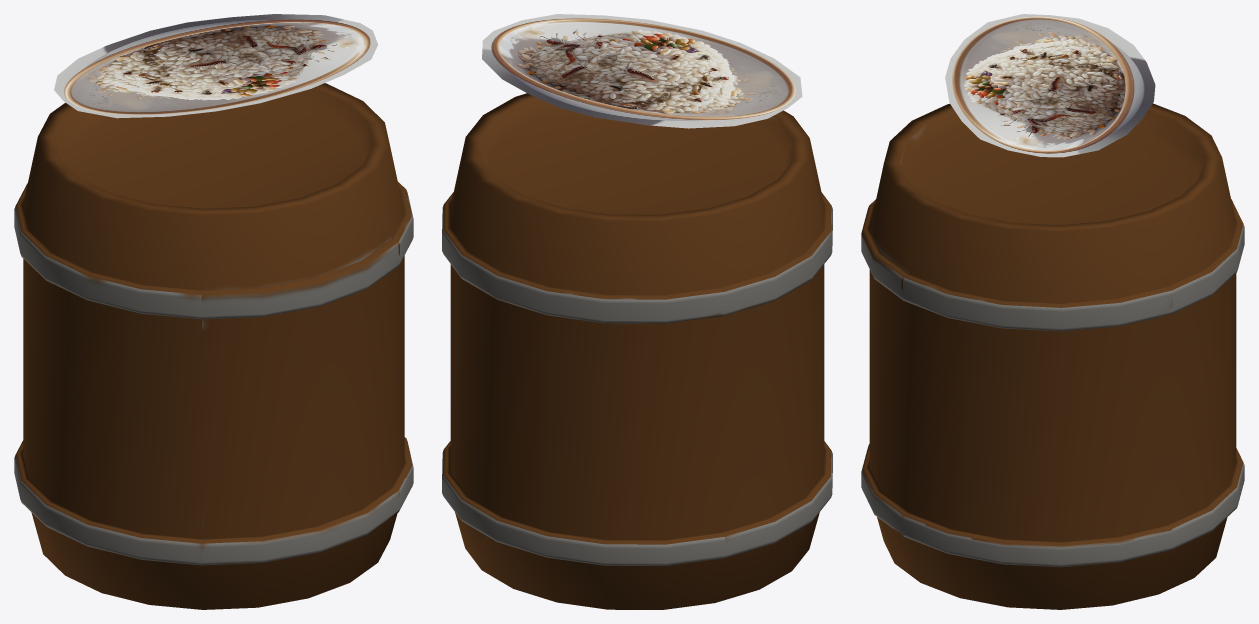
Rendered from Ingredientes_2_GranitosdeTumba.fbx.
3 views of the same model, side by side, from view 1: azimuth 30°, elevation 25°; view 2: azimuth 150°, elevation 25°; view 3: azimuth 270°, elevation 25° (orthographic). The views are drawn at different scales.
Visible parts, largest first — view 1: Barril_mesh, MK_Ingredientes_2_GranitosdeTumba; view 2: Barril_mesh, MK_Ingredientes_2_GranitosdeTumba; view 3: Barril_mesh, MK_Ingredientes_2_GranitosdeTumba.
Boxes of the visible parts, box(x1,y1,x2,y2) form: Barril_mesh: box(14, 83, 413, 609); MK_Ingredientes_2_GranitosdeTumba: box(54, 14, 378, 118); Barril_mesh: box(442, 93, 832, 609); MK_Ingredientes_2_GranitosdeTumba: box(482, 14, 802, 128); Barril_mesh: box(861, 103, 1244, 609); MK_Ingredientes_2_GranitosdeTumba: box(945, 14, 1155, 157).
Bounding box in the file's own units: 1.84 × 2.41 × 1.84.
Materials: 2 (2 with a texture image).
